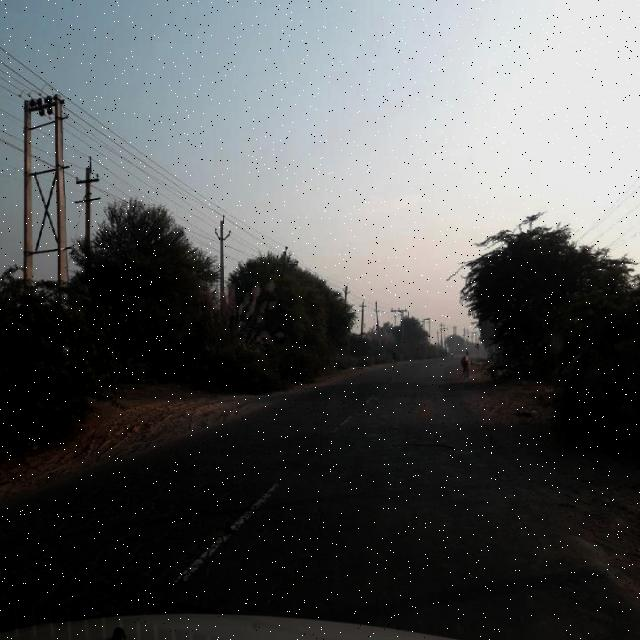D20: (1, 459, 292, 596)
D40: (196, 521, 240, 550)
D44: (172, 473, 292, 587)
